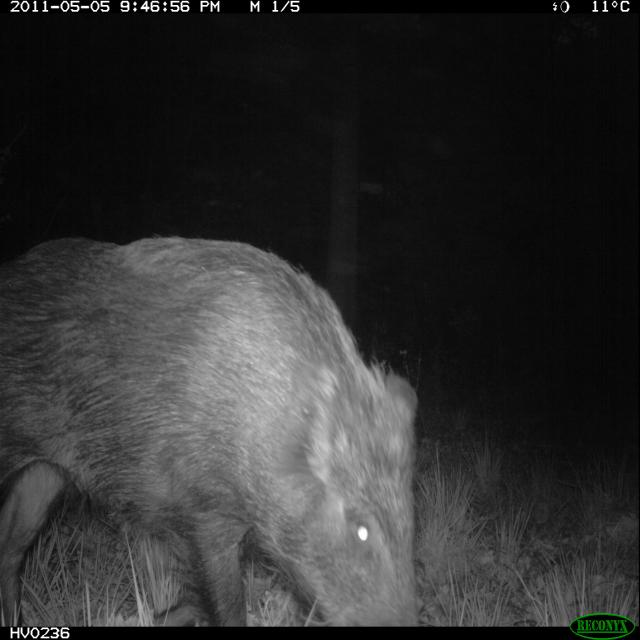boar: (0, 196, 437, 632)
